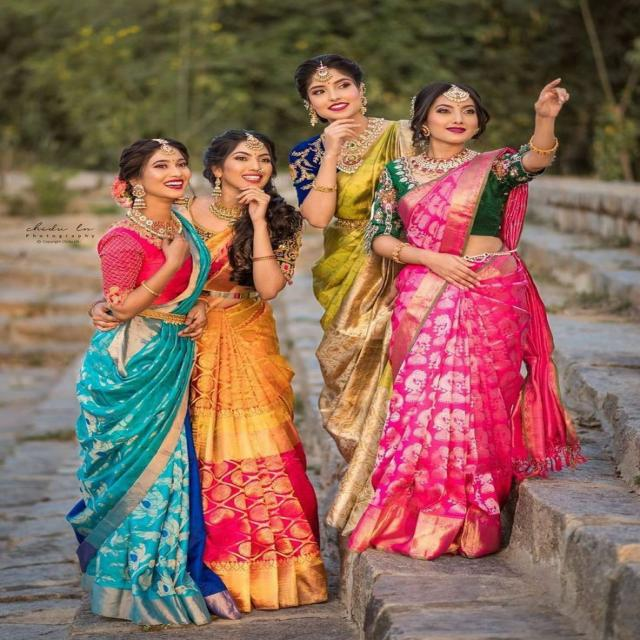female-dress: (380, 153, 551, 568), (200, 208, 334, 620), (86, 225, 213, 629), (294, 133, 396, 525)
